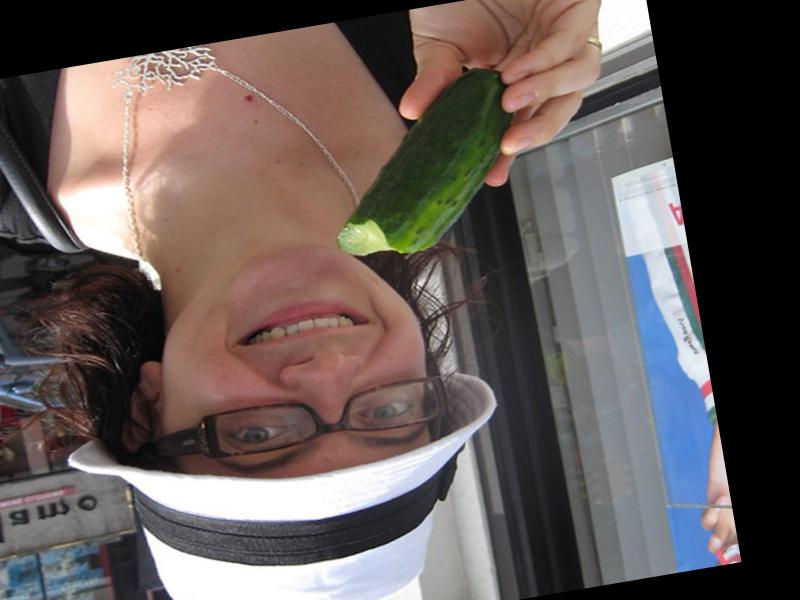Cucumber: (315, 63, 536, 264)
